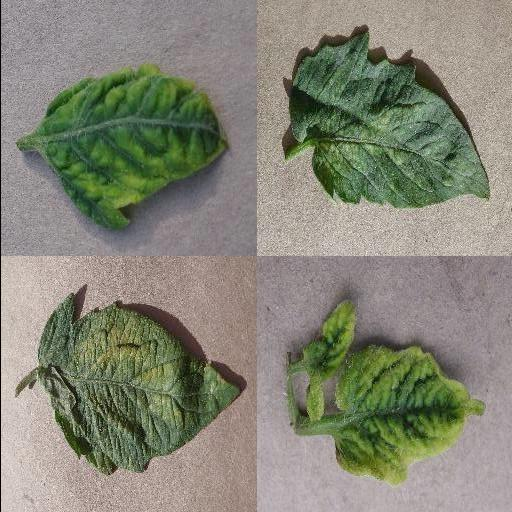Spider Mites: (37, 292, 243, 476), (288, 31, 490, 209)
Yellow Leaf Curl Virus: (39, 67, 229, 229), (330, 343, 484, 487), (296, 288, 362, 424)
